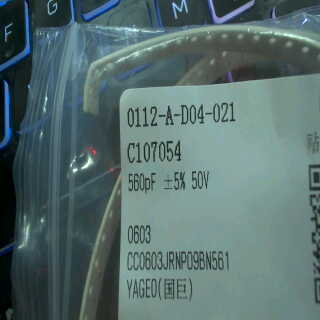560pF: (127, 169, 157, 199)
